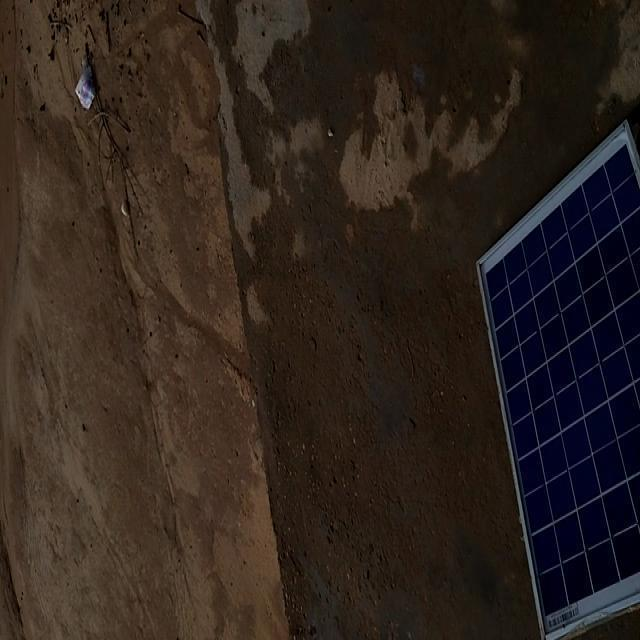Normal Solar Panel: (479, 121, 640, 640)
